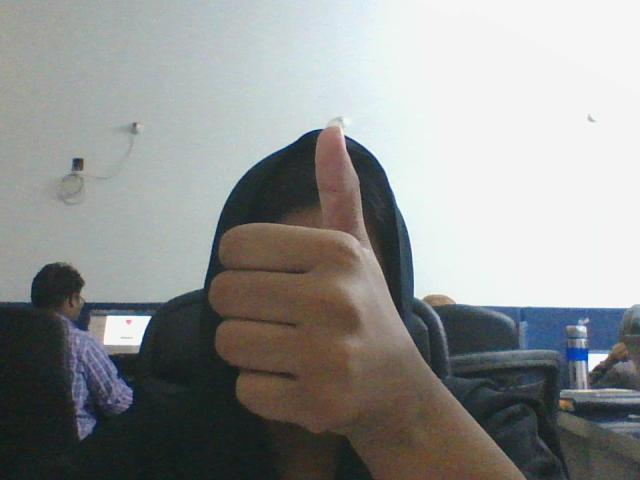thumbs-up: (212, 111, 377, 436)
